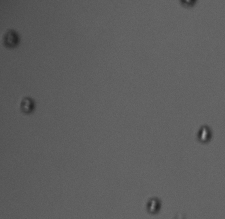Dead Cell: (2, 28, 21, 47), (19, 97, 37, 114), (145, 197, 161, 214), (177, 1, 198, 6)
Living Cell: (196, 125, 212, 142)
